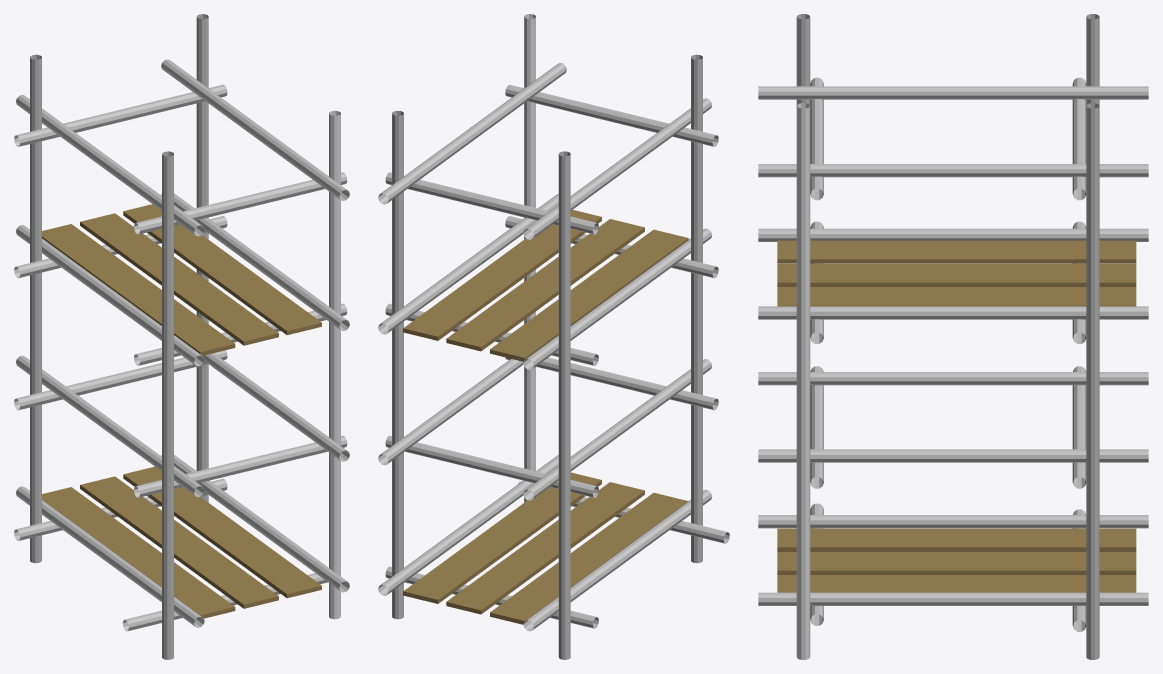
File: scaffolding9.fbx
The picture shows the model from 3 angles, left to right: view 1: azimuth 30°, elevation 25°; view 2: azimuth 150°, elevation 25°; view 3: azimuth 270°, elevation 25°; orthographic projection. The views are drawn at different scales.
Visible parts, largest first — view 1: pCylinder48, pCube60, pCube53, pCube55, pCube56, pCube59, pCylinder87, pCube50, pCylinder36, pCylinder47, pCylinder74, pCylinder81 (+14 smaller); view 2: pCylinder87, pCube60, pCube53, pCube55, pCube56, pCube59, pCylinder48, pCube50, pCylinder47, pCylinder36, pCylinder74, pCylinder52 (+14 smaller); view 3: pCylinder36, pCube55, pCube50, pCylinder47, pCube60, pCube53, pCube59, pCube56, pCylinder81, pCylinder52, pCylinder42, pCylinder92 (+10 smaller).
Part boxes in pixels (x1,y1,x2,y2): pCylinder48: [162, 151, 173, 659]; pCube60: [80, 213, 278, 345]; pCube53: [80, 476, 278, 608]; pCube55: [42, 224, 235, 355]; pCube56: [123, 466, 321, 598]; pCube59: [123, 204, 321, 335]; pCylinder87: [30, 54, 41, 563]; pCube50: [42, 487, 235, 618]; pCylinder36: [329, 110, 340, 619]; pCylinder47: [196, 14, 208, 502]; pCylinder74: [161, 59, 349, 200]; pCylinder81: [16, 94, 204, 236]; pCylinder87: [558, 151, 570, 659]; pCube60: [446, 219, 644, 351]; pCube53: [446, 482, 644, 614]; pCube55: [490, 229, 688, 361]; pCube56: [403, 472, 601, 603]; pCube59: [403, 209, 601, 340]; pCylinder48: [691, 54, 702, 563]; pCube50: [490, 492, 688, 624]; pCylinder47: [392, 110, 403, 619]; pCylinder36: [524, 14, 535, 502]; pCylinder74: [378, 63, 566, 204]; pCylinder52: [378, 194, 558, 334]; pCylinder36: [796, 103, 810, 659]; pCube55: [777, 240, 1136, 263]; pCube50: [777, 528, 1136, 551]; pCylinder47: [1086, 103, 1099, 659]; pCube60: [777, 264, 1136, 286]; pCube53: [777, 552, 1136, 574]; pCube59: [777, 287, 1136, 306]; pCube56: [777, 575, 1136, 592]; pCylinder81: [758, 86, 1148, 99]; pCylinder52: [758, 306, 1148, 319]; pCylinder42: [758, 449, 1148, 462]; pCylinder92: [758, 372, 1148, 385].
Size of the model in its own units: 10.43 by 22.96 by 14.74.
